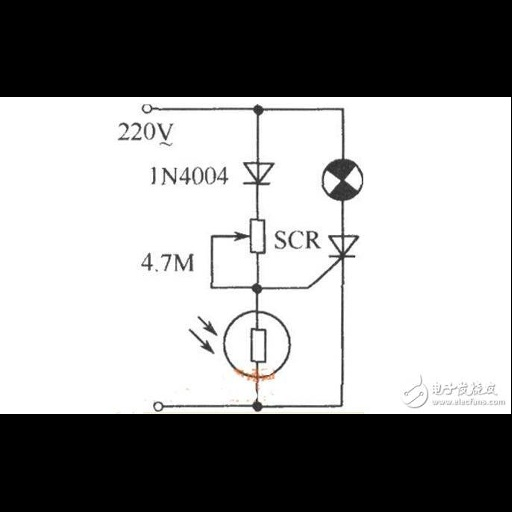seconddiode: (241, 156, 278, 189)
